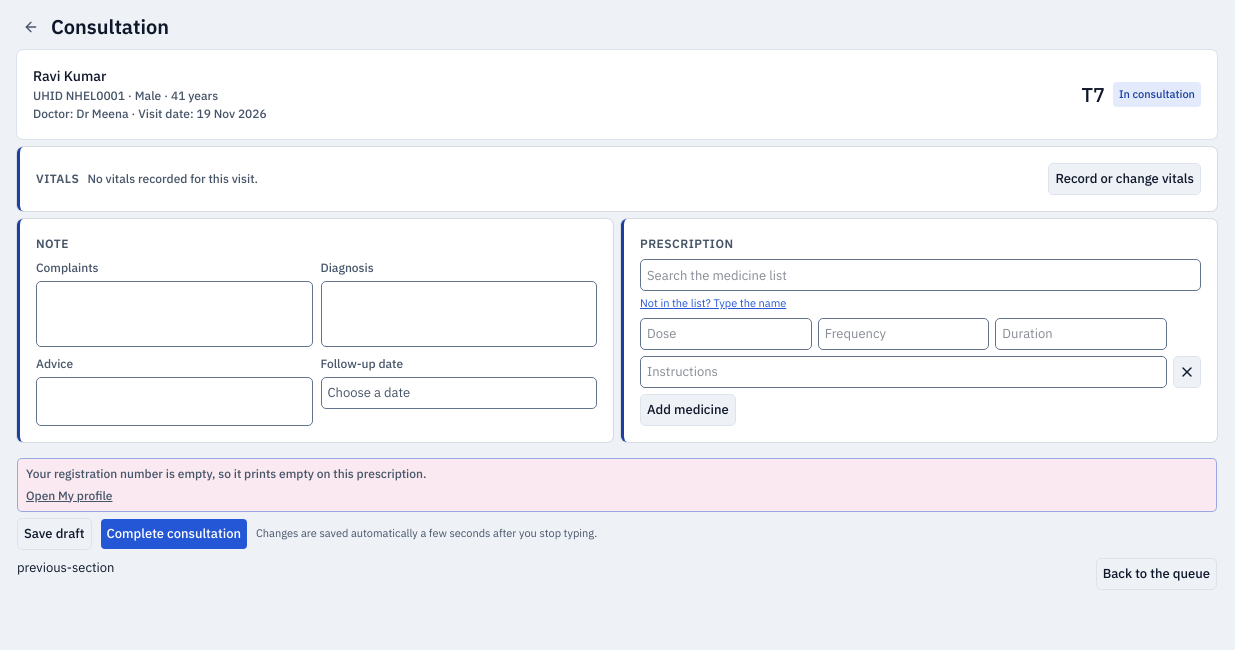
Test: automatic saving › an unfinished medicine row is not saved and is announced
Click the button "Not in the list? Type the name" at (713, 303), box [640,295,786,312]
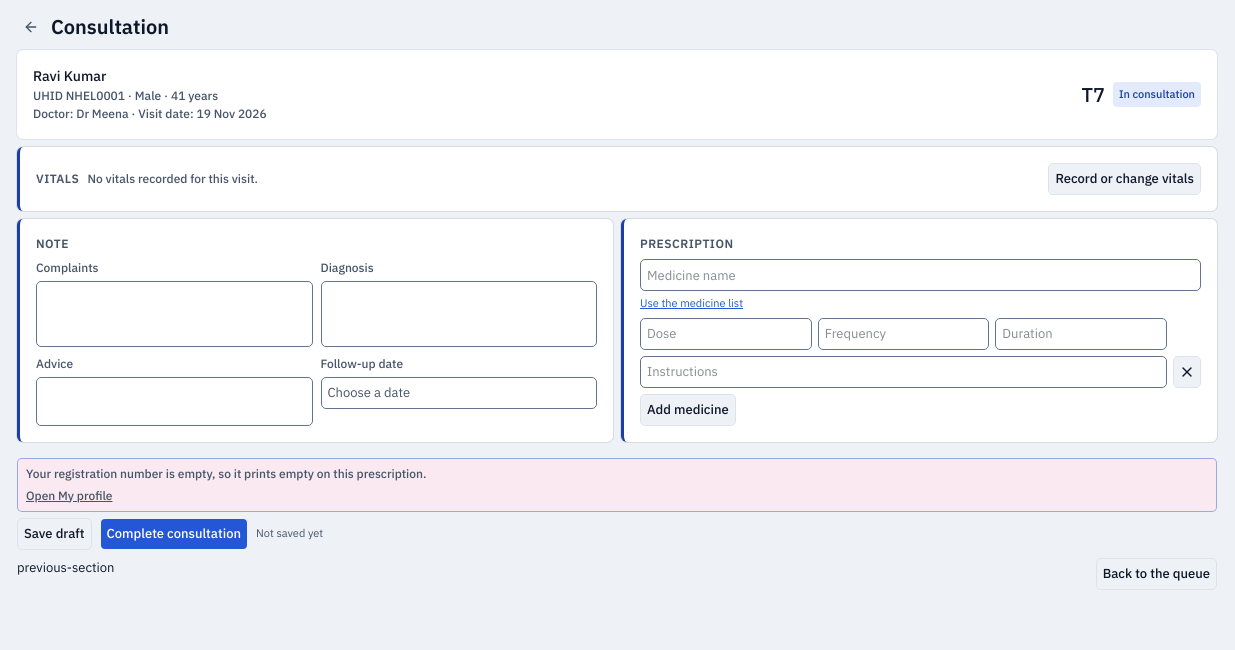
Type "Tulsi drops" into the field named "Medicine 1: Medicine name" at (920, 275), box [640,259,1201,291]
Wait 5000 ms
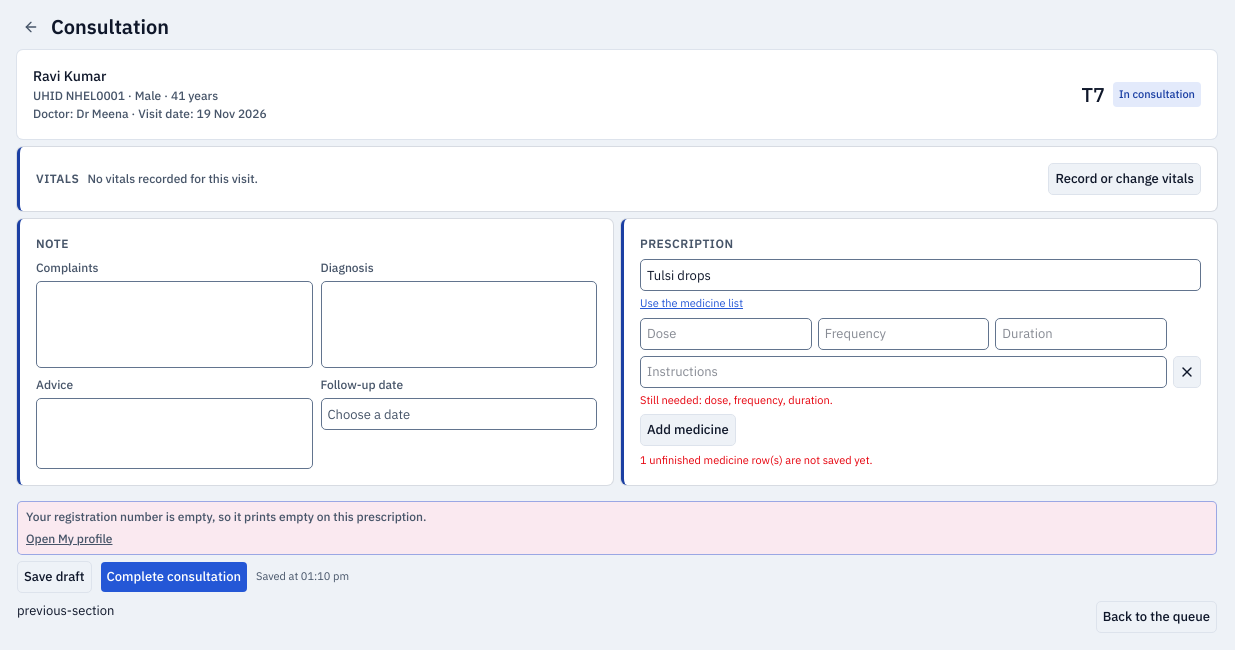
Result: the text "1 unfinished medicine row(s) are not saved yet." is shown at [640,453,872,467]
